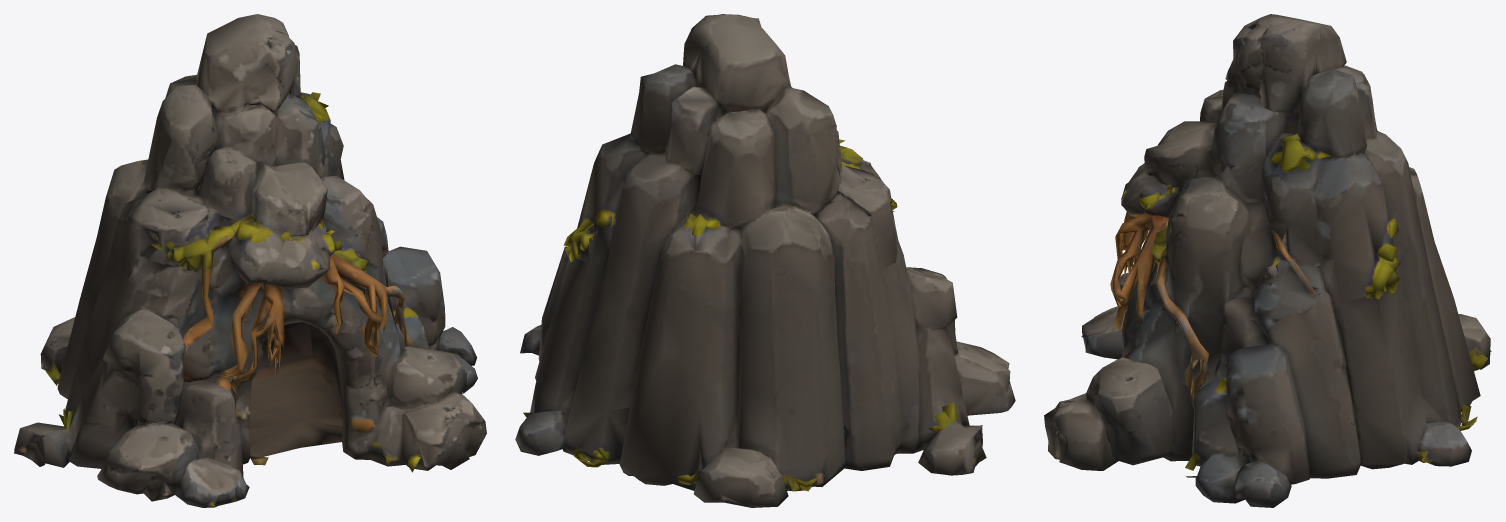
The model's file is oyuk_agzi.glb.
3 renders of one model, left to right at view 1: azimuth 30°, elevation 25°; view 2: azimuth 150°, elevation 25°; view 3: azimuth 270°, elevation 25°, orthographic. The views are drawn at different scales.
Visible parts, largest first — view 1: oyuk_agzi; view 2: oyuk_agzi; view 3: oyuk_agzi.
Boxes of the visible parts, <box> form: oyuk_agzi: <box>14,14,486,507</box>; oyuk_agzi: <box>515,14,1015,507</box>; oyuk_agzi: <box>1044,14,1491,507</box>.
Bounding box in the file's own units: 4 × 3.32 × 3.39.
Materials: 1 (1 with a texture image).
